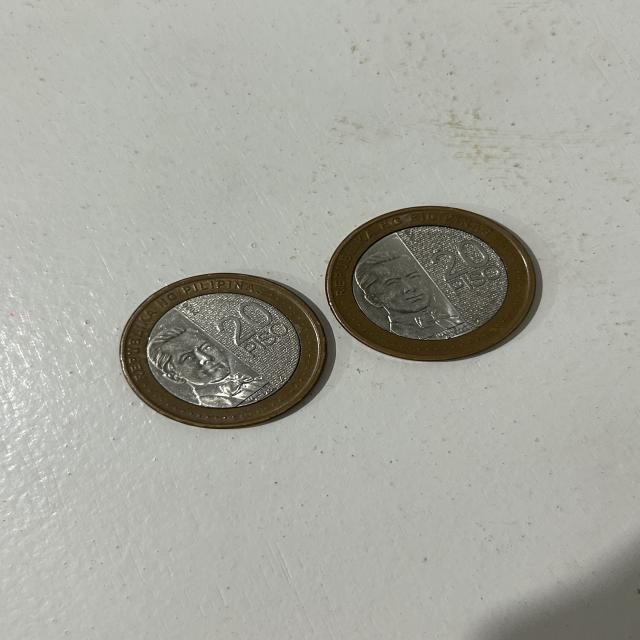20_New_Front: (423, 234, 506, 297), (210, 296, 293, 354)
